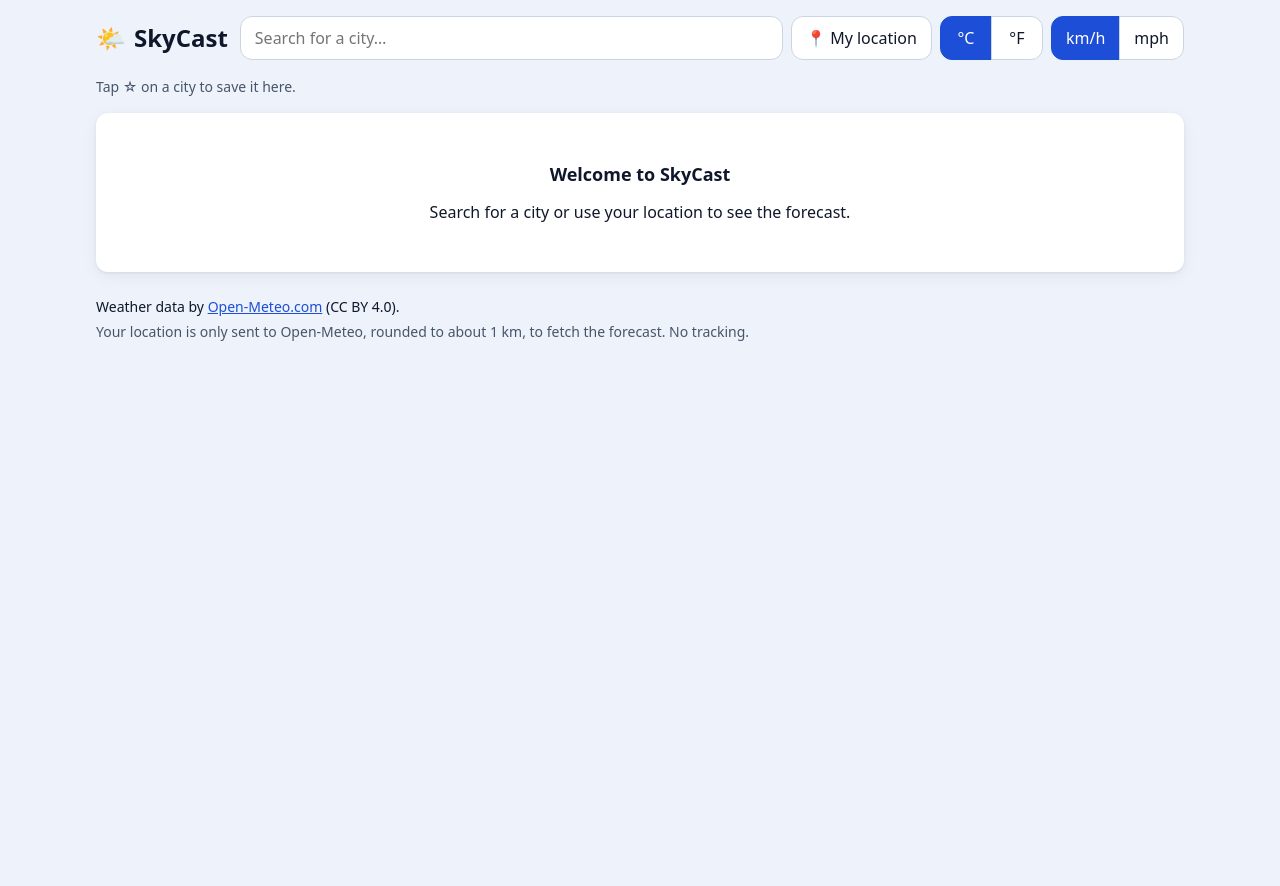
Test case: App › FR-1/2/3/4 searches a city and shows its forecast
Type "Berlin" into the dropdown at coordinates (511, 38), box [240,16,783,60]
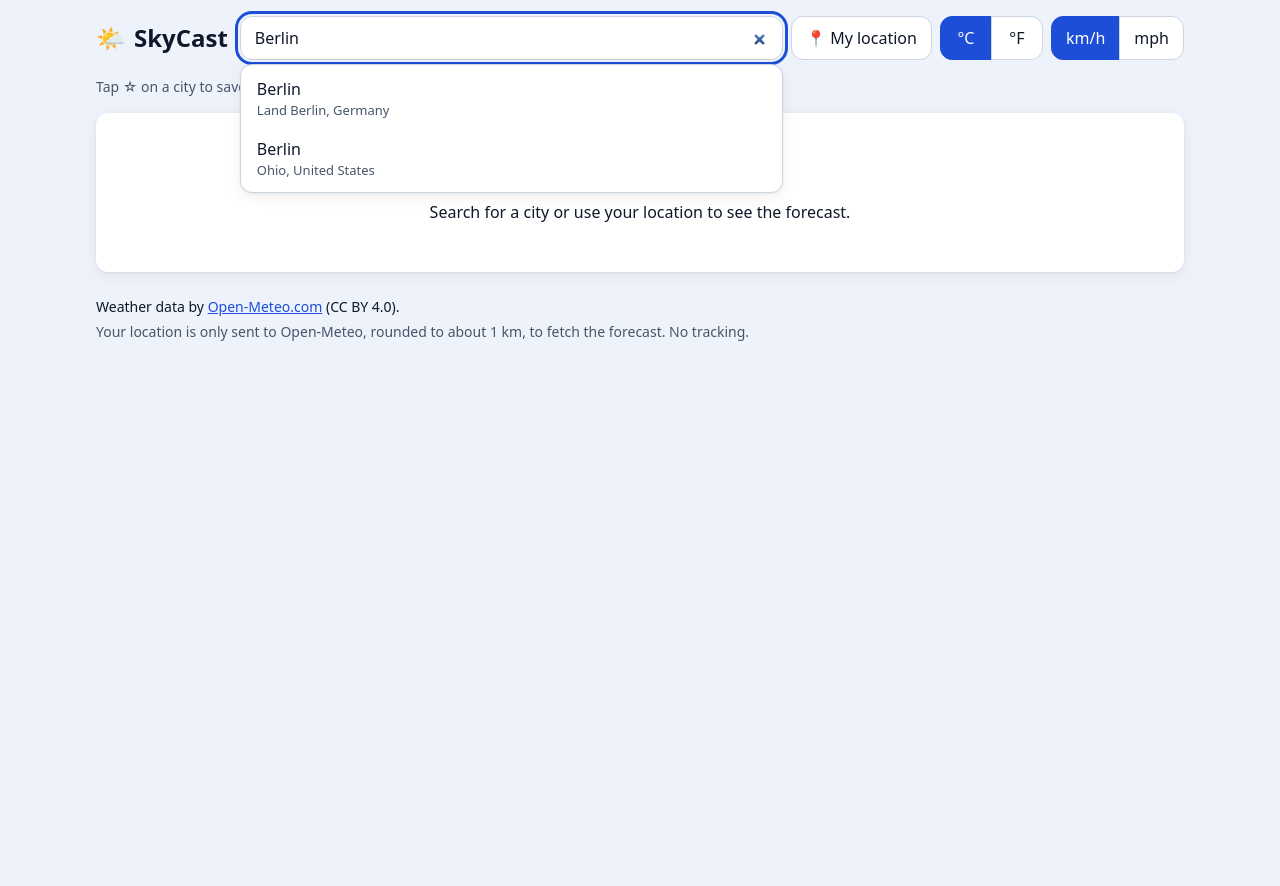
Click the option "Berlin Land Berlin, Germany" at coordinates (323, 98), box [257,78,389,119]
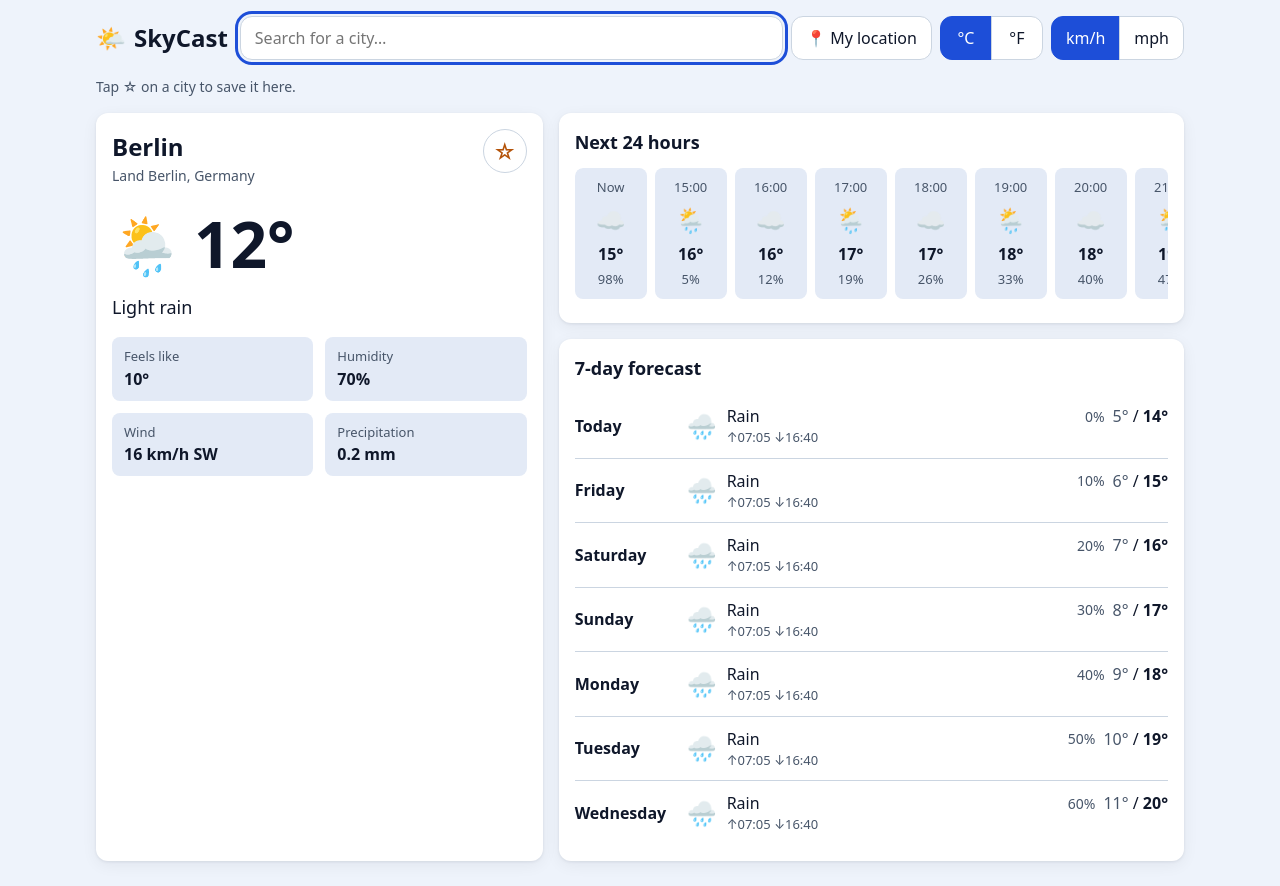
expect the heading "Berlin" is shown: met, box [112,130,184,163]
expect the text "Land Berlin, Germany" is shown: met, box [112,165,255,186]
expect the text with test id "current-temp" reads "12°": met, box [194,200,294,287]
